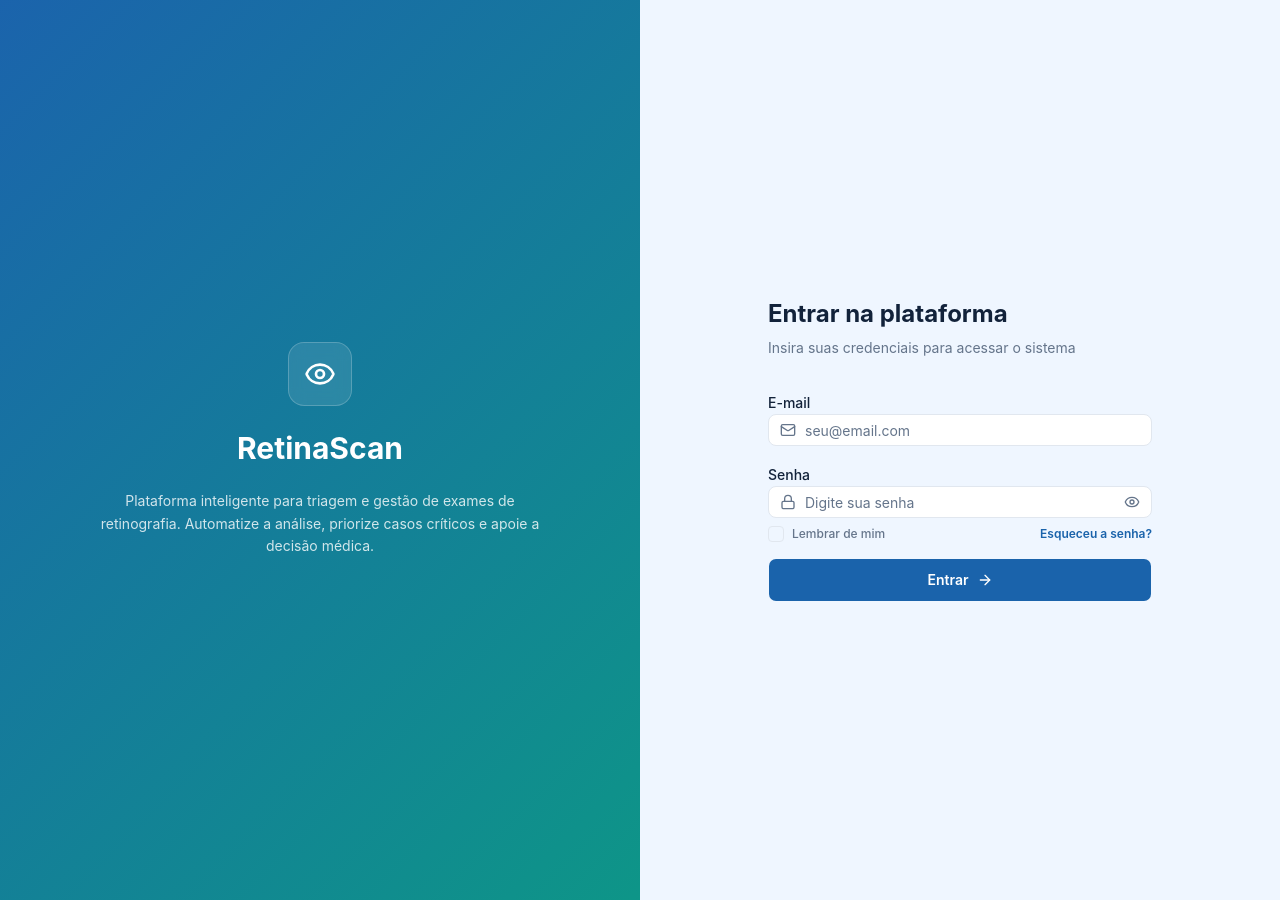
Test: Login › mostra erro quando a API retorna erro
Type "gustavo@email.com" into the field with placeholder "seu@email.com".
click(960, 430); type("gustavo@email.com")  # box [768, 414, 1152, 446]
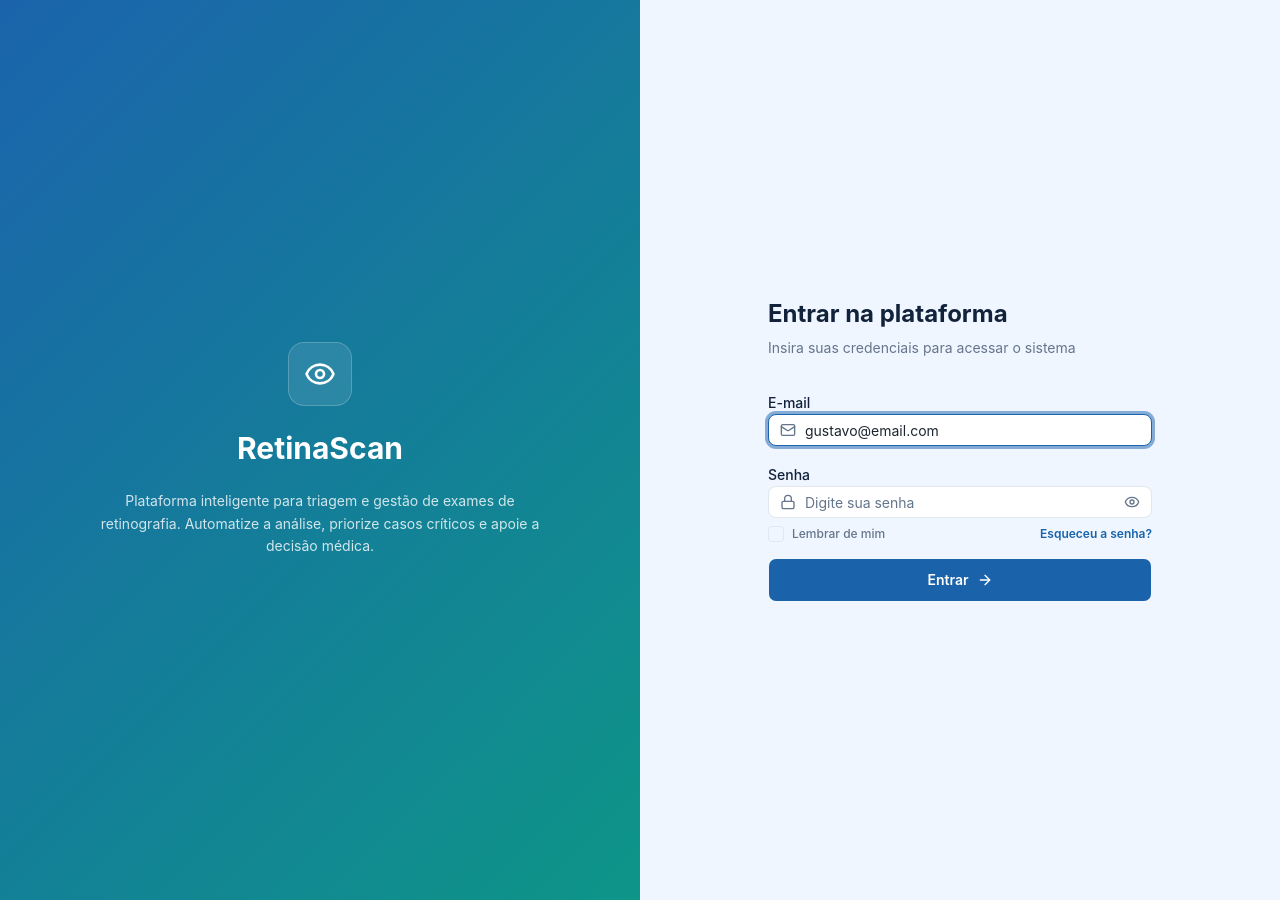
Type "senhaerrada" into the password field with placeholder "Digite sua senha".
click(960, 502); type("senhaerrada")  # box [768, 486, 1152, 518]
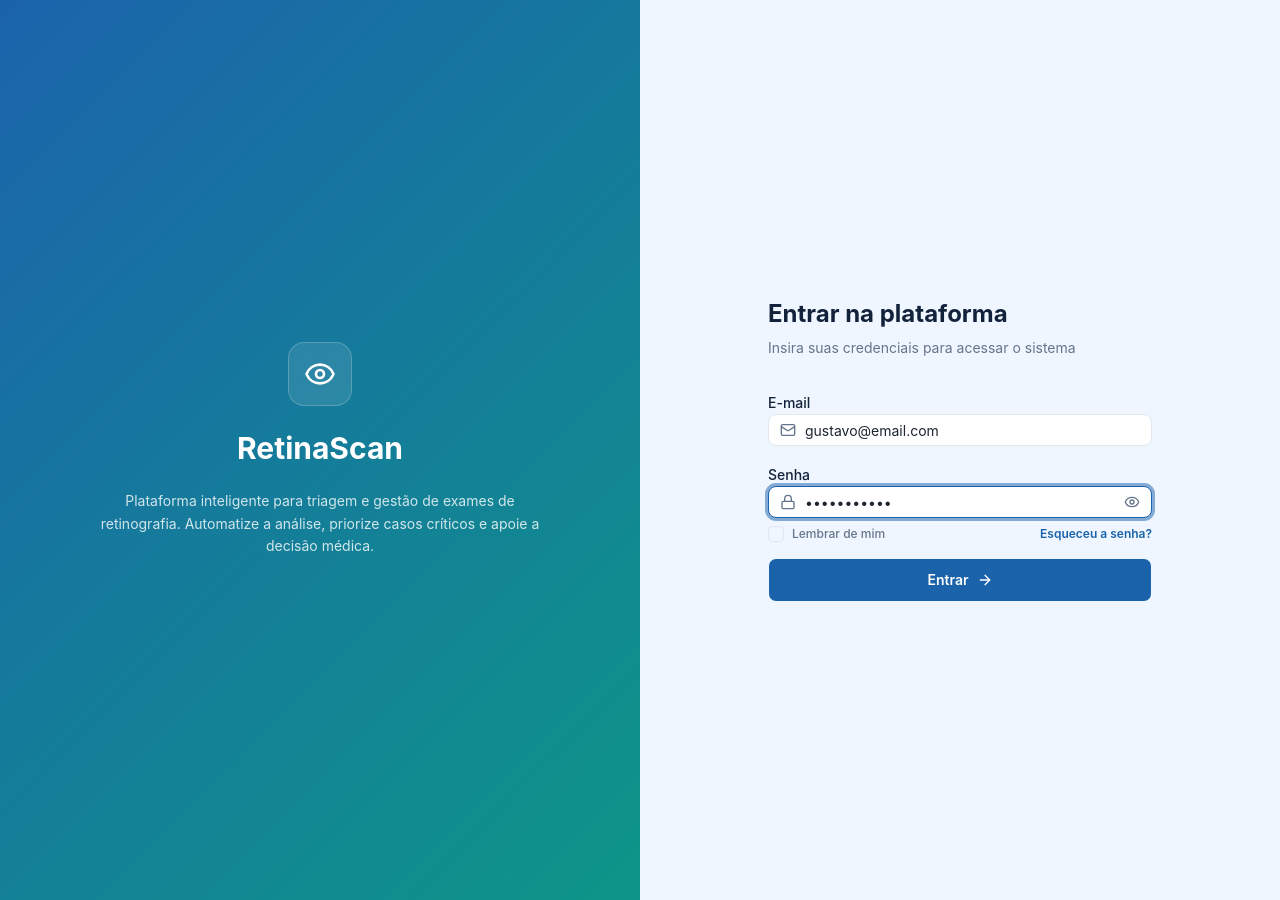
Click the button "Entrar".
click(960, 580)  # box [768, 558, 1152, 602]
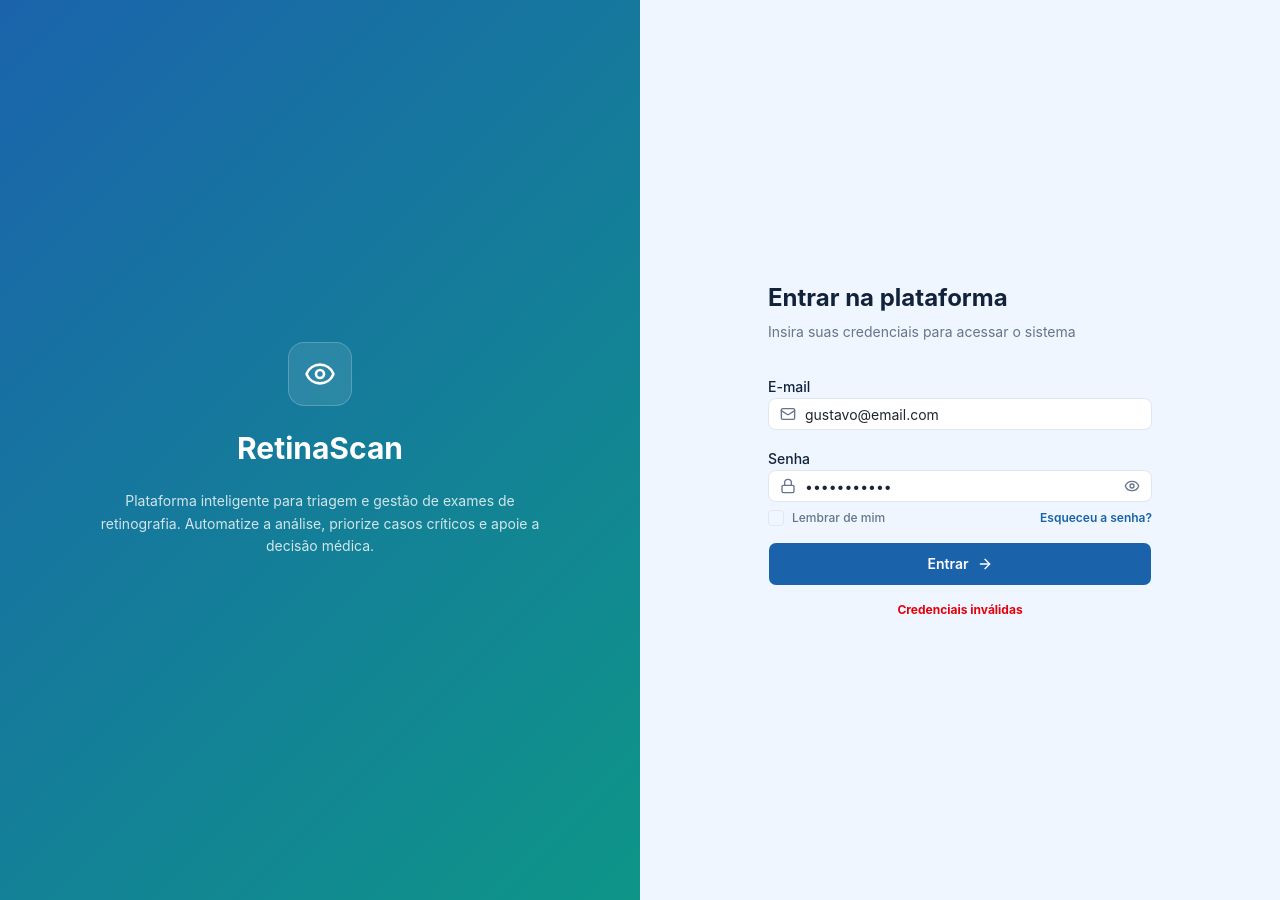
Result: the text "Credenciais inválidas" is shown at [897, 602, 1023, 617]
